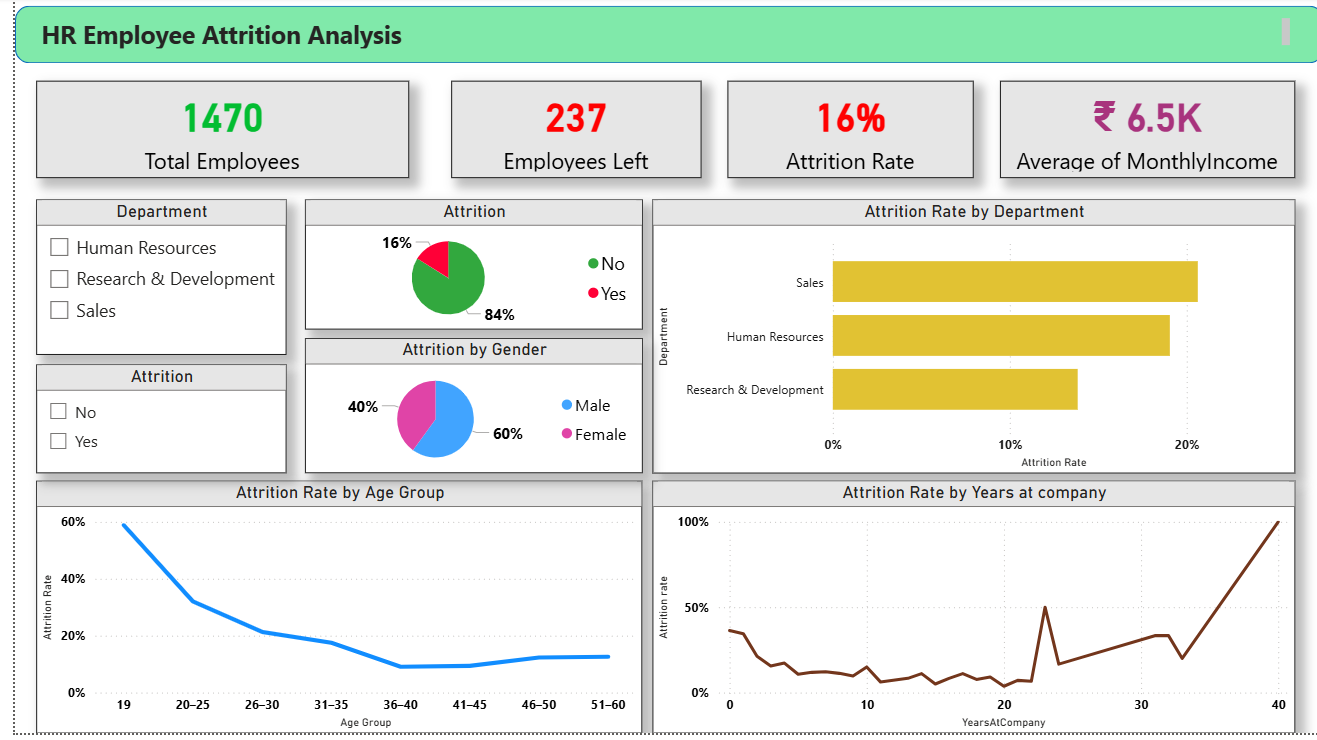

What the dashboard file says about the page in this screenshot:
{"tool":"powerbi","page":{"name":"Attrition Summary","canvas":[1280,720],"ordinal":0},"visuals":[{"type":"card","fields":{"Values":["HR-Employee-Attrition.Total Employees"]},"box":[20.8,81.9,364.4,95.4],"z":0},{"type":"card","fields":{"Values":["HR-Employee-Attrition.Total Attrition"]},"box":[426.8,81.9,244.6,95.4],"z":1000},{"type":"card","fields":{"Values":["HR-Employee-Attrition.Attrition rate"]},"box":[697,81.9,240.9,95.4],"z":2000},{"type":"card","fields":{"Values":["Avg(HR-Employee-Attrition.MonthlyIncome)"]},"box":[963.6,81.9,288.6,95.4],"z":3000},{"type":"shape","box":[0,8.6,1280.3,56.3],"z":4000},{"type":"textbox","box":[20.8,15.9,1231.4,39.1],"z":5000},{"type":"pieChart","title":" Attrition","fields":{"Y":["CountNonNull(HR-Employee-Attrition.Attrition)"],"Category":["HR-Employee-Attrition.Attrition"]},"box":[283.7,198.1,330.2,127.2],"z":6000},{"type":"lineChart","title":"Attrition Rate by Age Group","fields":{"Y":["HR-Employee-Attrition.Attrition Rate"],"Category":["HR-Employee-Attrition.Age Group"]},"box":[20.8,473.2,593.1,247],"z":7000},{"type":"barChart","title":"Attrition Rate by Department","fields":{"Category":["HR-Employee-Attrition.Department","HR-Employee-Attrition.JobRole"],"Y":["HR-Employee-Attrition.Attrition rate"]},"box":[623.6,198.1,628.5,267.8],"z":8000},{"type":"slicer","title":"Department","fields":{"Values":["HR-Employee-Attrition.Department"]},"box":[20.8,198.1,244.6,151.6],"z":9000},{"type":"slicer","title":"Attrition","fields":{"Values":["HR-Employee-Attrition.Attrition"]},"box":[20.8,359.5,244.6,106.4],"z":10000},{"type":"lineChart","title":"Attrition Rate by Years at company","fields":{"Category":["HR-Employee-Attrition.YearsAtCompany"],"Y":["HR-Employee-Attrition.Attrition rate"]},"box":[623.6,473.2,628.5,247],"z":11000},{"type":"pieChart","title":" Attrition by Gender","fields":{"Y":["CountNonNull(HR-Employee-Attrition.Attrition)"],"Category":["HR-Employee-Attrition.Gender"]},"box":[283.7,333.8,330.2,132.1],"z":12000}]}

Visuals, with their boxes in screenshot pixels (x1, y1, x2, y2), scaled from the page's 1280x720 canvas onto the 1317x740 screenshot:
card - HR-Employee-Attrition.Total Employees: box=[21, 84, 396, 182]
card - HR-Employee-Attrition.Total Attrition: box=[439, 84, 691, 182]
card - HR-Employee-Attrition.Attrition rate: box=[717, 84, 965, 182]
card - Avg(HR-Employee-Attrition.MonthlyIncome): box=[991, 84, 1288, 182]
shape: box=[0, 9, 1316, 67]
textbox: box=[21, 16, 1288, 57]
" Attrition" pieChart: box=[292, 204, 632, 334]
"Attrition Rate by Age Group" lineChart: box=[21, 486, 632, 739]
"Attrition Rate by Department" barChart: box=[642, 204, 1288, 479]
"Department" slicer: box=[21, 204, 273, 359]
"Attrition" slicer: box=[21, 369, 273, 479]
"Attrition Rate by Years at company" lineChart: box=[642, 486, 1288, 739]
" Attrition by Gender" pieChart: box=[292, 343, 632, 479]
